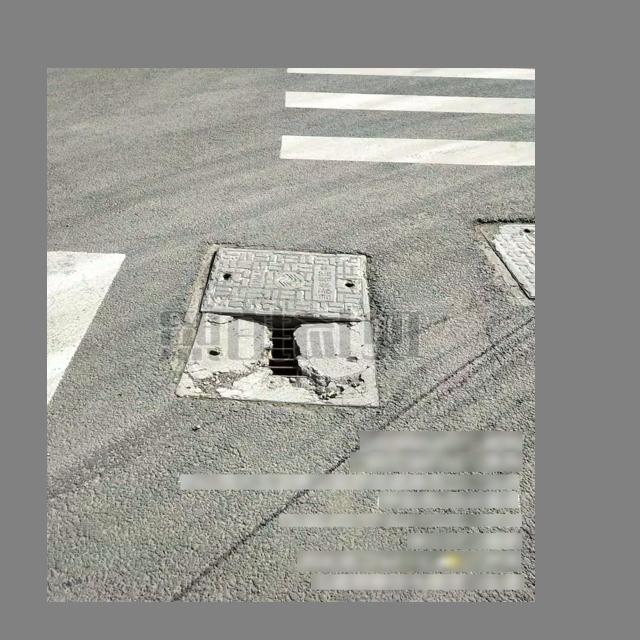broke: (172, 247, 382, 408)
